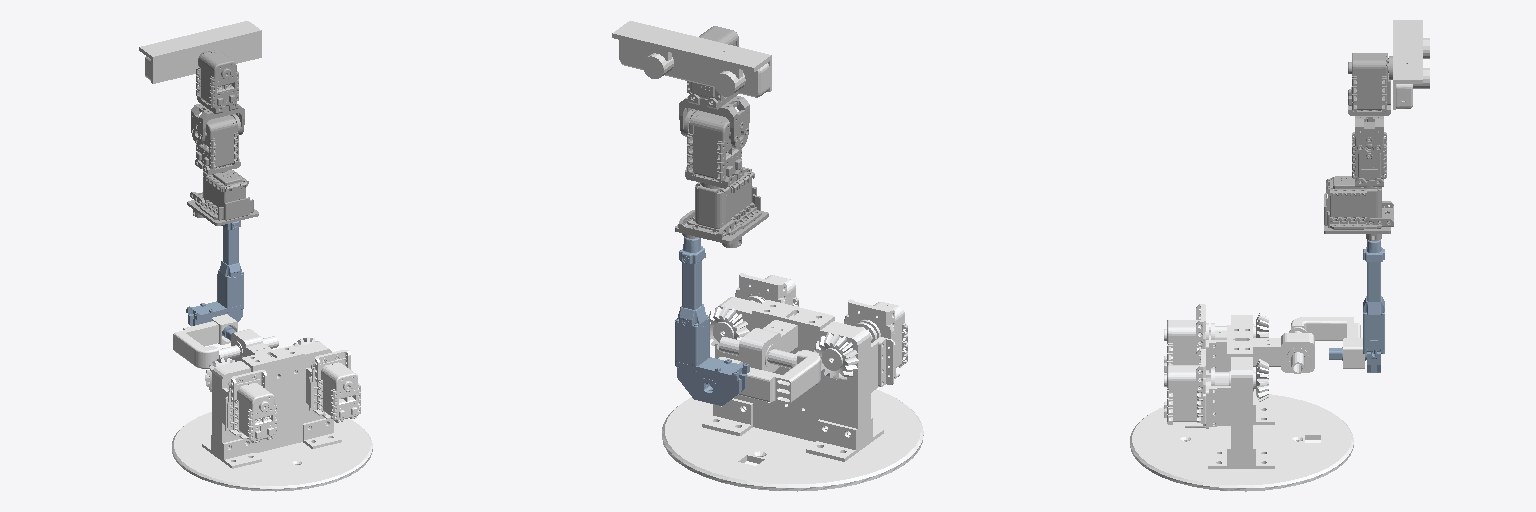
The robot description file, URDF, robot "DtachableHead_urdf":
<?xml version="1.0" encoding="utf-8" ?>
<!-- This URDF was automatically created by SolidWorks to URDF Exporter! Originally created by [author] ([email redacted]) 
     Commit Version: 1.6.0-4-g7f85cfe  Build Version: 1.6.7995.38578
     For more information, please see http://wiki.ros.org/sw_urdf_exporter -->
<robot name="DtachableHead_urdf">
    <link name="base_link">
        <inertial>
            <origin xyz="-0.000160763379547334 -0.0028778608375346 0.0413095409157996" rpy="0 0 0" />
            <mass value="1.35645615501944" />
            <inertia ixx="0.00160679424866847" ixy="-1.96133222815202E-08" ixz="-4.28172380236372E-11" iyy="0.00256871988358894" iyz="2.47783545305456E-05" izz="0.00323989902972532" />
        </inertial>
        <visual>
            <origin xyz="0 0 0" rpy="0 0 0" />
            <geometry>
                <mesh filename="package://DtachableHead_urdf/meshes/base_link.STL" />
            </geometry>
            <material name="">
                <color rgba="0.992156862745098 0.996078431372549 1 1" />
            </material>
        </visual>
        <collision>
            <origin xyz="0 0 0" rpy="0 0 0" />
            <geometry>
                <mesh filename="package://DtachableHead_urdf/meshes/base_link.STL" />
            </geometry>
        </collision>
    </link>
    <link name="link1">
        <inertial>
            <origin xyz="-0.0344919141503805 -1.54366087967706E-09 -0.00292123191401799" rpy="0 0 0" />
            <mass value="0.0671568678454526" />
            <inertia ixx="1.39601406216235E-05" ixy="2.61151902538547E-12" ixz="5.05580281755129E-07" iyy="1.84505744884279E-05" iyz="-2.64774176017856E-12" izz="9.66500461012691E-06" />
        </inertial>
        <visual>
            <origin xyz="0 0 0" rpy="0 0 0" />
            <geometry>
                <mesh filename="package://DtachableHead_urdf/meshes/link1.STL" />
            </geometry>
            <material name="">
                <color rgba="0.992156862745098 0.996078431372549 1 1" />
            </material>
        </visual>
        <collision>
            <origin xyz="0 0 0" rpy="0 0 0" />
            <geometry>
                <mesh filename="package://DtachableHead_urdf/meshes/link1.STL" />
            </geometry>
        </collision>
    </link>
    <joint name="Joint1" type="continuous">
        <origin xyz="-0.0360499999999949 0.0499999999999997 0.0900000000000024" rpy="1.5707963267949 0 -1.5707963267949" />
        <parent link="base_link" />
        <child link="link1" />
        <axis xyz="0 0 -1" />
    </joint>
    <link name="link2">
        <inertial>
            <origin xyz="0.00998208521241245 0.0286104199594805 -0.0273197453173963" rpy="0 0 0" />
            <mass value="0.0356098993432724" />
            <inertia ixx="1.83783160193877E-05" ixy="9.28623788854822E-09" ixz="5.14418585378673E-11" iyy="4.62727883326016E-06" iyz="1.5386412781596E-08" izz="2.05218091451025E-05" />
        </inertial>
        <visual>
            <origin xyz="0 0 0" rpy="0 0 0" />
            <geometry>
                <mesh filename="package://DtachableHead_urdf/meshes/link2.STL" />
            </geometry>
            <material name="">
                <color rgba="0.63921568627451 0.717647058823529 0.807843137254902 1" />
            </material>
        </visual>
        <collision>
            <origin xyz="0 0 0" rpy="0 0 0" />
            <geometry>
                <mesh filename="package://DtachableHead_urdf/meshes/link2.STL" />
            </geometry>
        </collision>
    </link>
    <joint name="Joint2" type="continuous">
        <origin xyz="-0.04 0 -0.039" rpy="0 1.5708 0" />
        <parent link="link1" />
        <child link="link2" />
        <axis xyz="0 0 -1" />
    </joint>
    <link name="link3">
        <inertial>
            <origin xyz="-0.0166445970887167 -0.0152591349151164 0.0960402777899791" rpy="0 0 0" />
            <mass value="0.0615999483609297" />
            <inertia ixx="1.96808644650992E-05" ixy="-7.73160709144607E-10" ixz="2.07413985495107E-09" iyy="1.1984164460371E-05" iyz="5.20730103700112E-07" izz="1.99107629303824E-05" />
        </inertial>
        <visual>
            <origin xyz="0 0 0" rpy="0 0 0" />
            <geometry>
                <mesh filename="package://DtachableHead_urdf/meshes/link3.STL" />
            </geometry>
            <material name="">
                <color rgba="0.749019607843137 0.749019607843137 0.749019607843137 1" />
            </material>
        </visual>
        <collision>
            <origin xyz="0 0 0" rpy="0 0 0" />
            <geometry>
                <mesh filename="package://DtachableHead_urdf/meshes/link3.STL" />
            </geometry>
        </collision>
    </link>
    <joint name="Joint3" type="prismatic">
        <origin xyz="0.0177 0.048825 -0.027931" rpy="-1.5708 0 0" />
        <parent link="link2" />
        <child link="link3" />
        <axis xyz="0 0 1" />
        <limit lower="0" upper="0.1" effort="0" velocity="0" />
    </joint>
    <link name="link4">
        <inertial>
            <origin xyz="0.000935720391849824 3.82530565168349E-07 0.0269255378944656" rpy="0 0 0" />
            <mass value="0.0459058932133952" />
            <inertia ixx="1.01806974090115E-05" ixy="2.05369267526503E-09" ixz="1.90759890536628E-07" iyy="1.19651025527216E-05" iyz="-8.78872520126507E-10" izz="6.93671043075207E-06" />
        </inertial>
        <visual>
            <origin xyz="0 0 0" rpy="0 0 0" />
            <geometry>
                <mesh filename="package://DtachableHead_urdf/meshes/link4.STL" />
            </geometry>
            <material name="">
                <color rgba="0.749019607843137 0.749019607843137 0.749019607843137 1" />
            </material>
        </visual>
        <collision>
            <origin xyz="0 0 0" rpy="0 0 0" />
            <geometry>
                <mesh filename="package://DtachableHead_urdf/meshes/link4.STL" />
            </geometry>
        </collision>
    </link>
    <joint name="Joint4" type="continuous">
        <origin xyz="-0.017355 -0.0040276 0.12394" rpy="0 0 0" />
        <parent link="link3" />
        <child link="link4" />
        <axis xyz="0 0 -1" />
    </joint>
    <link name="link5">
        <inertial>
            <origin xyz="0.000807779287032073 0.0477382509072259 -0.0210003302516941" rpy="0 0 0" />
            <mass value="0.0531974022503484" />
            <inertia ixx="1.34162982657178E-05" ixy="1.90602862465882E-07" ixz="-2.05357289078372E-09" iyy="9.81332123866811E-06" iyz="8.78912371964546E-10" izz="1.31909439260169E-05" />
        </inertial>
        <visual>
            <origin xyz="0 0 0" rpy="0 0 0" />
            <geometry>
                <mesh filename="package://DtachableHead_urdf/meshes/link5.STL" />
            </geometry>
            <material name="">
                <color rgba="0.749019607843137 0.749019607843137 0.749019607843137 1" />
            </material>
        </visual>
        <collision>
            <origin xyz="0 0 0" rpy="0 0 0" />
            <geometry>
                <mesh filename="package://DtachableHead_urdf/meshes/link5.STL" />
            </geometry>
        </collision>
    </link>
    <joint name="Joint5" type="continuous">
        <origin xyz="0.02094 0 0.0415" rpy="1.5708 0 1.5708" />
        <parent link="link4" />
        <child link="link5" />
        <axis xyz="0 0 1" />
    </joint>
    <link name="link6">
        <inertial>
            <origin xyz="-0.00129376034223654 -0.00143049571285392 0.0122874973879902" rpy="0 0 0" />
            <mass value="0.0815114383015727" />
            <inertia ixx="8.61255579201181E-06" ixy="-5.42382835388954E-09" ixz="1.34323836661227E-06" iyy="0.000107416004552211" iyz="3.71193090190524E-07" izz="0.000107522902425226" />
        </inertial>
        <visual>
            <origin xyz="0 0 0" rpy="0 0 0" />
            <geometry>
                <mesh filename="package://DtachableHead_urdf/meshes/link6.STL" />
            </geometry>
            <material name="">
                <color rgba="0.917647058823529 0.917647058823529 0.917647058823529 1" />
            </material>
        </visual>
        <collision>
            <origin xyz="0 0 0" rpy="0 0 0" />
            <geometry>
                <mesh filename="package://DtachableHead_urdf/meshes/link6.STL" />
            </geometry>
        </collision>
    </link>
    <joint name="Joint6" type="continuous">
        <origin xyz="0.0209399999999999 0.0675000000000001 -0.0210000000000012" rpy="0 1.5707963267949 0" />
        <parent link="link5" />
        <child link="link6" />
        <axis xyz="0 0 1" />
    </joint>
    <transmission name="trans_Joint1">
        <type>transmission_interface/SimpleTransmission</type>
        <joint name="Joint1">
            <hardwareInterface>hardware_interface/EffortJointInterface</hardwareInterface>
        </joint>
        <actuator name="Joint1_motor">
            <hardwareInterface>hardware_interface/EffortJointInterface</hardwareInterface>
            <mechanicalReduction>1</mechanicalReduction>
        </actuator>
    </transmission>
    <transmission name="trans_Joint2">
        <type>transmission_interface/SimpleTransmission</type>
        <joint name="Joint2">
            <hardwareInterface>hardware_interface/EffortJointInterface</hardwareInterface>
        </joint>
        <actuator name="Joint2_motor">
            <hardwareInterface>hardware_interface/EffortJointInterface</hardwareInterface>
            <mechanicalReduction>1</mechanicalReduction>
        </actuator>
    </transmission>
    <transmission name="trans_Joint3">
        <type>transmission_interface/SimpleTransmission</type>
        <joint name="Joint3">
            <hardwareInterface>hardware_interface/EffortJointInterface</hardwareInterface>
        </joint>
        <actuator name="Joint3_motor">
            <hardwareInterface>hardware_interface/EffortJointInterface</hardwareInterface>
            <mechanicalReduction>1</mechanicalReduction>
        </actuator>
    </transmission>
    <transmission name="trans_Joint4">
        <type>transmission_interface/SimpleTransmission</type>
        <joint name="Joint4">
            <hardwareInterface>hardware_interface/EffortJointInterface</hardwareInterface>
        </joint>
        <actuator name="Joint4_motor">
            <hardwareInterface>hardware_interface/EffortJointInterface</hardwareInterface>
            <mechanicalReduction>1</mechanicalReduction>
        </actuator>
    </transmission>
    <transmission name="trans_Joint5">
        <type>transmission_interface/SimpleTransmission</type>
        <joint name="Joint5">
            <hardwareInterface>hardware_interface/EffortJointInterface</hardwareInterface>
        </joint>
        <actuator name="Joint5_motor">
            <hardwareInterface>hardware_interface/EffortJointInterface</hardwareInterface>
            <mechanicalReduction>1</mechanicalReduction>
        </actuator>
    </transmission>
    <transmission name="trans_Joint6">
        <type>transmission_interface/SimpleTransmission</type>
        <joint name="Joint6">
            <hardwareInterface>hardware_interface/EffortJointInterface</hardwareInterface>
        </joint>
        <actuator name="Joint6_motor">
            <hardwareInterface>hardware_interface/EffortJointInterface</hardwareInterface>
            <mechanicalReduction>1</mechanicalReduction>
        </actuator>
    </transmission>
    <gazebo>
        <plugin name="gazebo_ros_control">
            <robotNamespace>/</robotNamespace>
        </plugin>
    </gazebo>
</robot>

--- Render facts (derived) ---
The picture shows the robot from 3 angles, left to right: view 1: azimuth 30°, elevation 25°; view 2: azimuth 150°, elevation 25°; view 3: azimuth 270°, elevation 25°; orthographic projection.
Robot: DtachableHead_urdf — 7 links, 6 joints (5 continuous, 1 prismatic); root link base_link; default pose: all joints at 0.
Visible links, largest first — view 1: base_link, link6, link5, link2, link3, link4, link1; view 2: base_link, link6, link2, link3, link4, link5, link1; view 3: base_link, link5, link3, link6, link2, link1, link4.
Boxes of the visible links, bbox=[...] form: base_link: bbox=[172, 329, 372, 491]; link6: bbox=[139, 21, 261, 83]; link5: bbox=[191, 50, 244, 144]; link2: bbox=[186, 221, 243, 340]; link3: bbox=[187, 170, 258, 225]; link4: bbox=[195, 114, 241, 174]; link1: bbox=[173, 314, 237, 368]; base_link: bbox=[662, 273, 923, 491]; link6: bbox=[612, 21, 771, 97]; link2: bbox=[675, 237, 749, 405]; link3: bbox=[675, 167, 768, 247]; link4: bbox=[684, 109, 743, 188]; link5: bbox=[679, 26, 749, 149]; link1: bbox=[718, 350, 820, 403]; base_link: bbox=[1130, 304, 1353, 491]; link5: bbox=[1348, 53, 1392, 158]; link3: bbox=[1324, 176, 1393, 240]; link6: bbox=[1393, 20, 1429, 109]; link2: bbox=[1329, 240, 1384, 372]; link1: bbox=[1291, 317, 1364, 368]; link4: bbox=[1352, 121, 1386, 186].
Size in the robot's own frame: 0.1998 by 0.2681 by 0.3895 metres.
Meshes: 7 distinct files referenced, 7 mesh visuals loaded (7 binary STL).